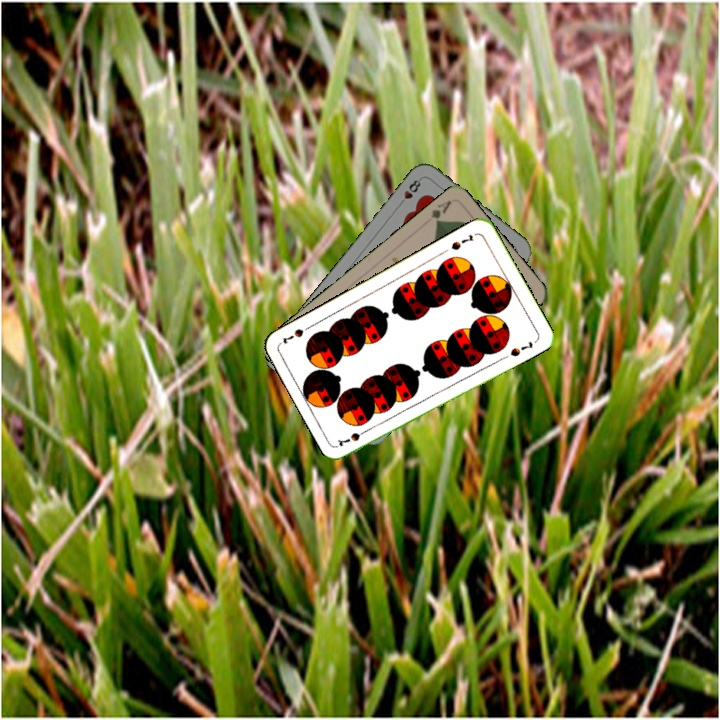GA: (427, 196, 454, 227)
H8: (395, 174, 424, 209)
S7: (335, 424, 373, 450), (447, 230, 476, 253)
